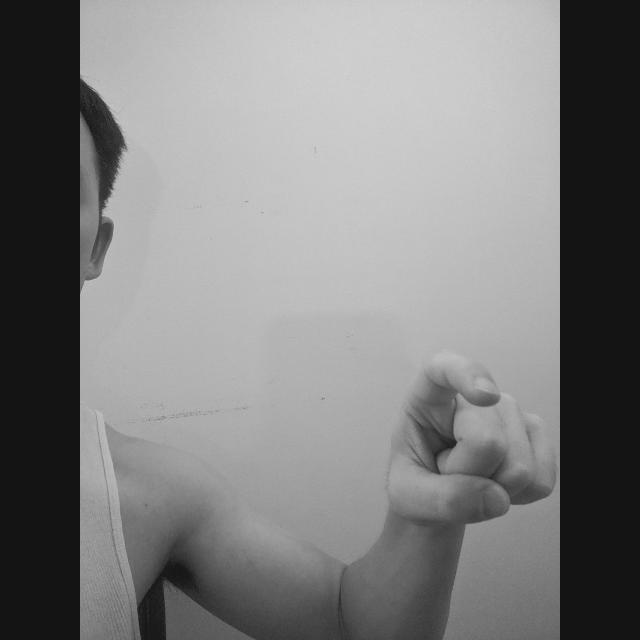Z: (381, 351, 559, 531)
